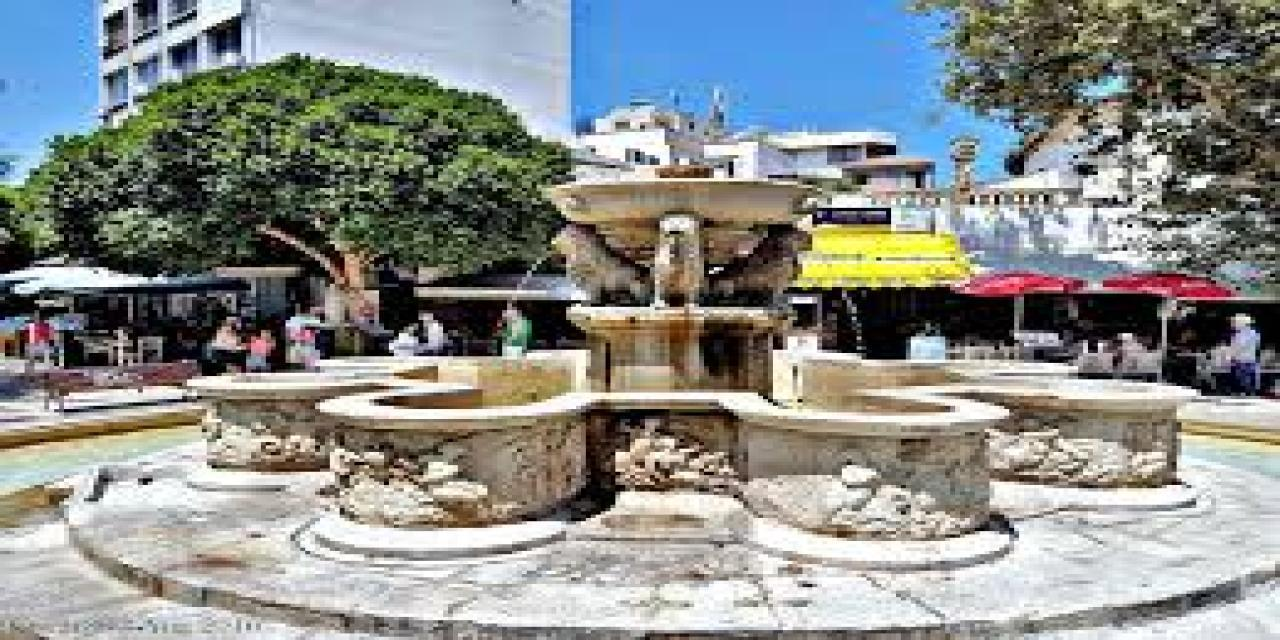Liontaria: (198, 167, 1206, 568)
